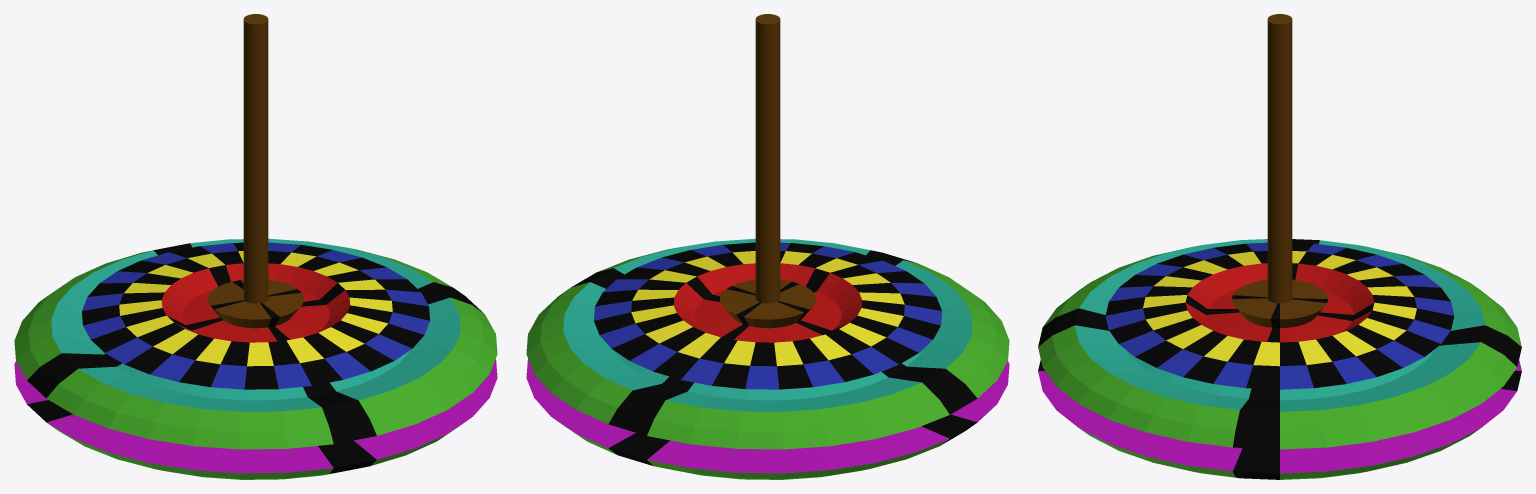
The model's file is Snurretop-patrik.fbx.
The picture shows the model from 3 angles, left to right: view 1: azimuth 30°, elevation 25°; view 2: azimuth 150°, elevation 25°; view 3: azimuth 270°, elevation 25°; orthographic projection.
Visible parts, largest first — view 1: Sphere; view 2: Sphere; view 3: Sphere.
Part boxes in pixels (x1,y1,x2,y2): Sphere: [14, 14, 497, 479]; Sphere: [526, 14, 1009, 479]; Sphere: [1038, 14, 1521, 479].
Bounding box in the file's own units: 1070 × 1071 × 1070.
